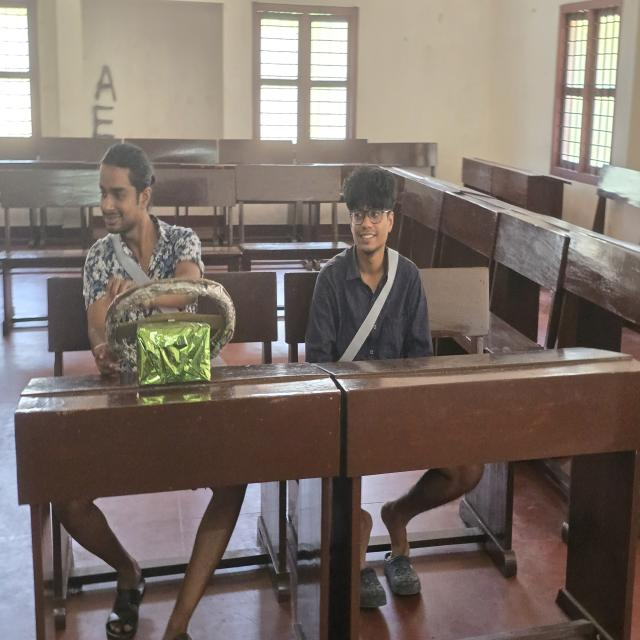seatbelt: (330, 257, 412, 357), (100, 234, 193, 308)
